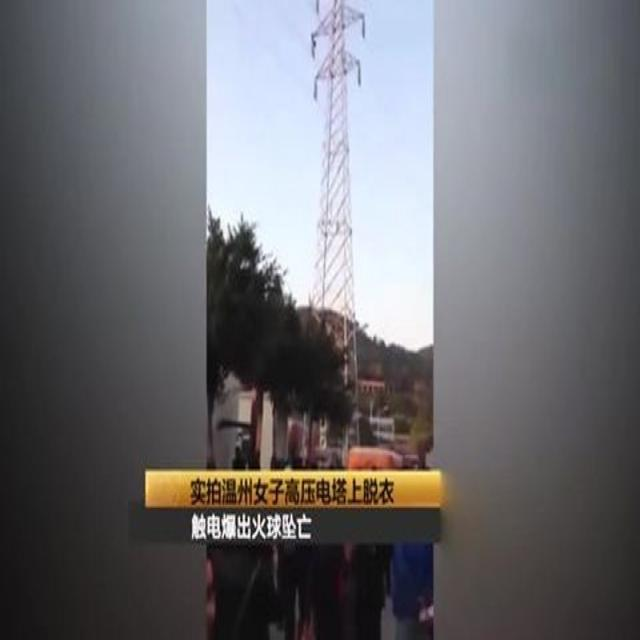non-critical vegetation: (298, 0, 388, 319)
